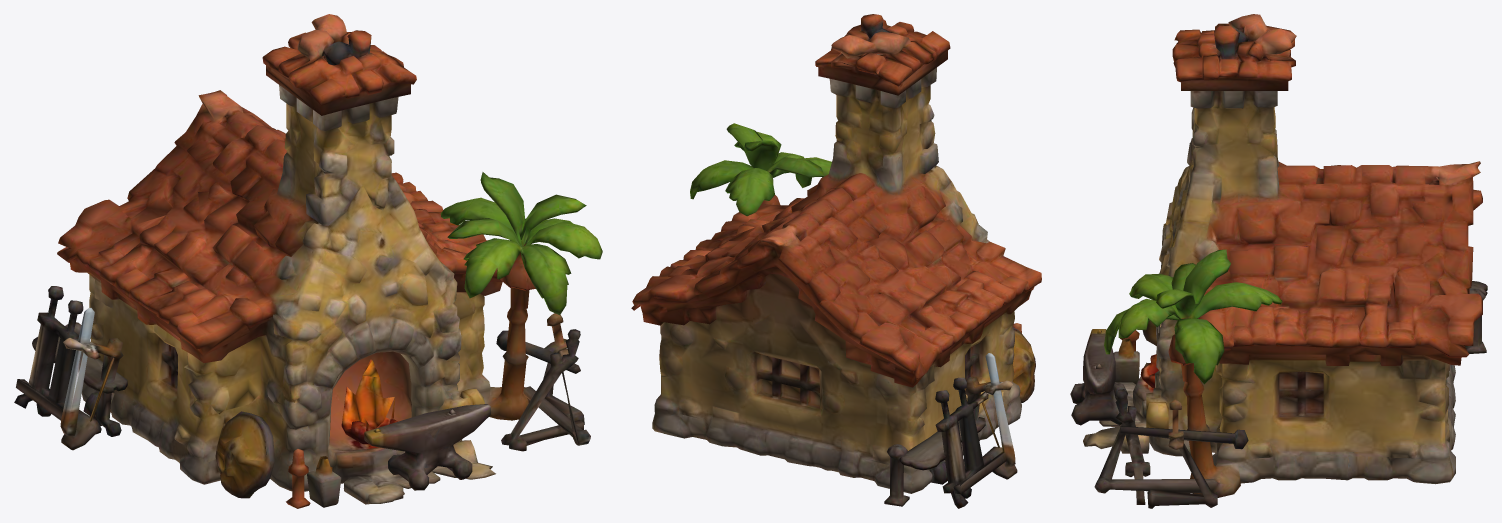
The model's file is herreria_tripo_2.glb.
3 renders of one model, left to right at view 1: azimuth 30°, elevation 25°; view 2: azimuth 150°, elevation 25°; view 3: azimuth 270°, elevation 25°, orthographic. The views are drawn at different scales.
Visible parts, largest first — view 1: tripo_node_fe11a8d2-d8d2-406b-9131-015c51d40e38; view 2: tripo_node_fe11a8d2-d8d2-406b-9131-015c51d40e38; view 3: tripo_node_fe11a8d2-d8d2-406b-9131-015c51d40e38.
Boxes of the visible parts, left/top/right/bottom form: tripo_node_fe11a8d2-d8d2-406b-9131-015c51d40e38: left=14, top=14, right=602, bottom=508; tripo_node_fe11a8d2-d8d2-406b-9131-015c51d40e38: left=631, top=14, right=1041, bottom=508; tripo_node_fe11a8d2-d8d2-406b-9131-015c51d40e38: left=1070, top=14, right=1487, bottom=508.
Bounding box in the file's own units: 0.9781 × 0.8671 × 0.8288.
1 material, 1 textured.
